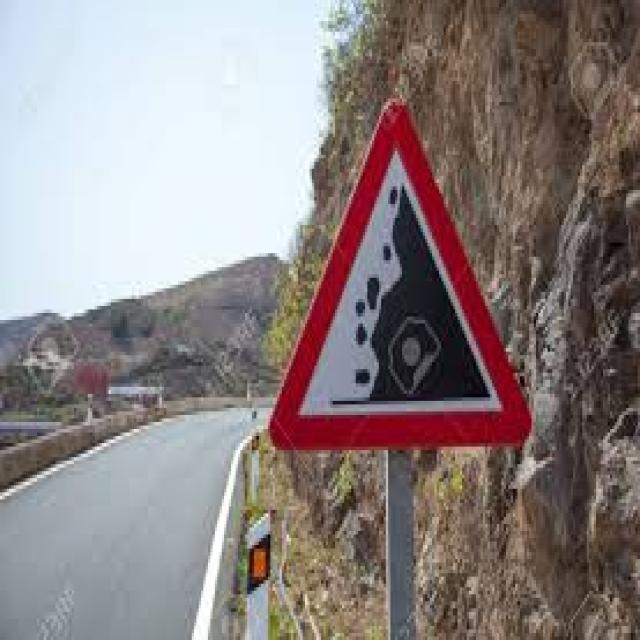falling rocks: (266, 91, 535, 462)
